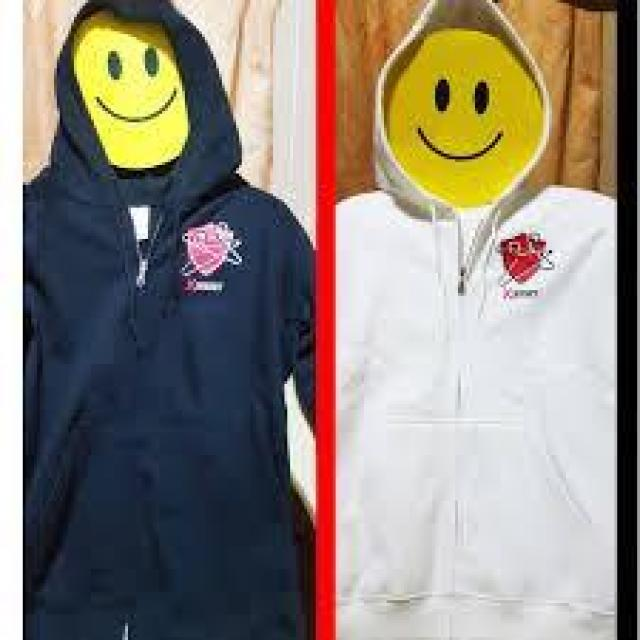sweater: (24, 0, 312, 640), (334, 0, 619, 640)
